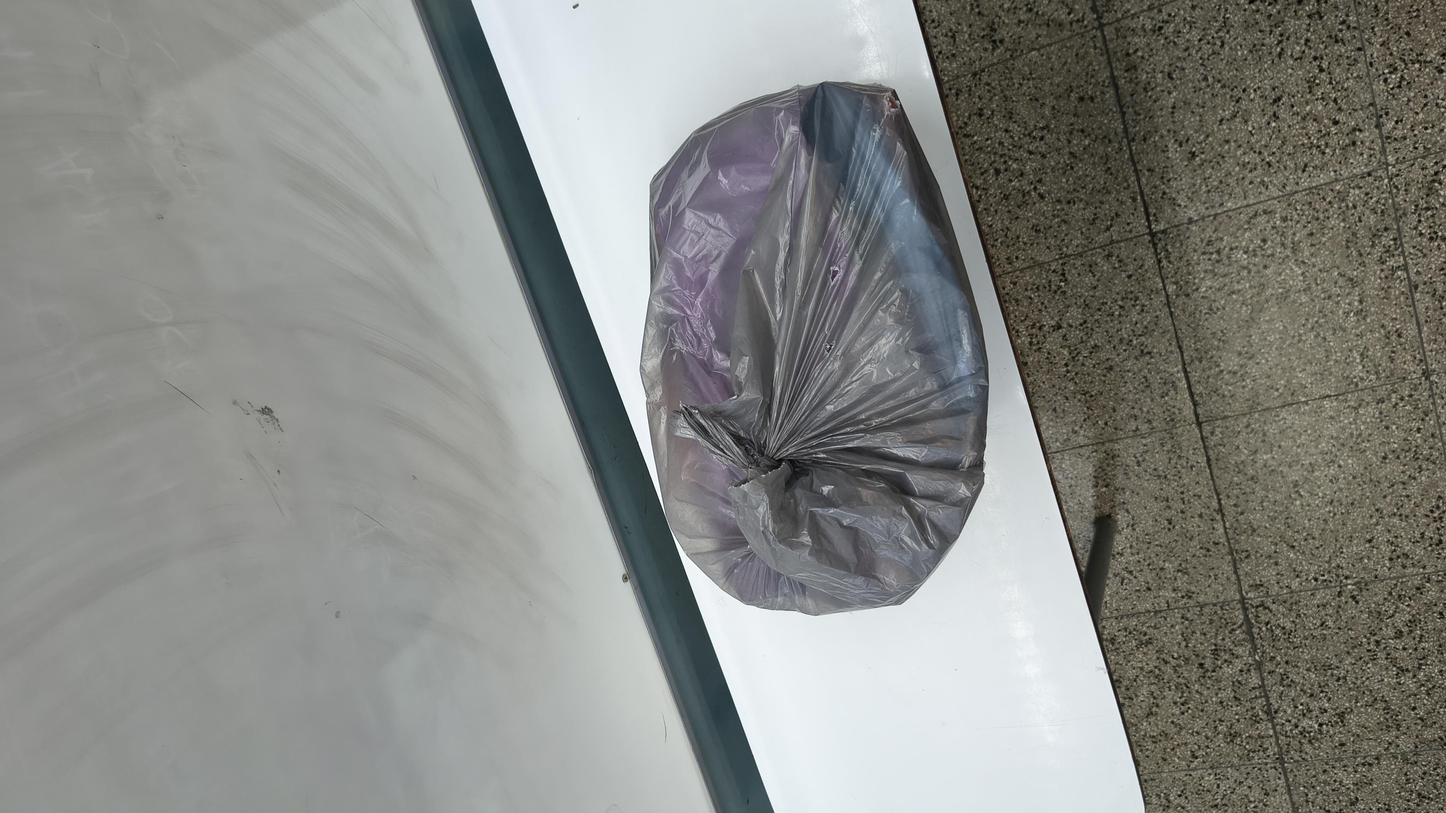Garbage: (245, 337, 1406, 576)
